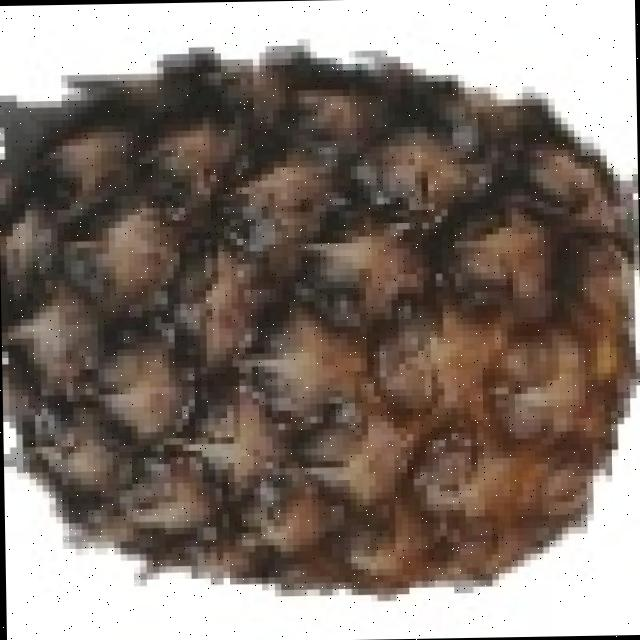pineapple: (0, 50, 640, 594)
